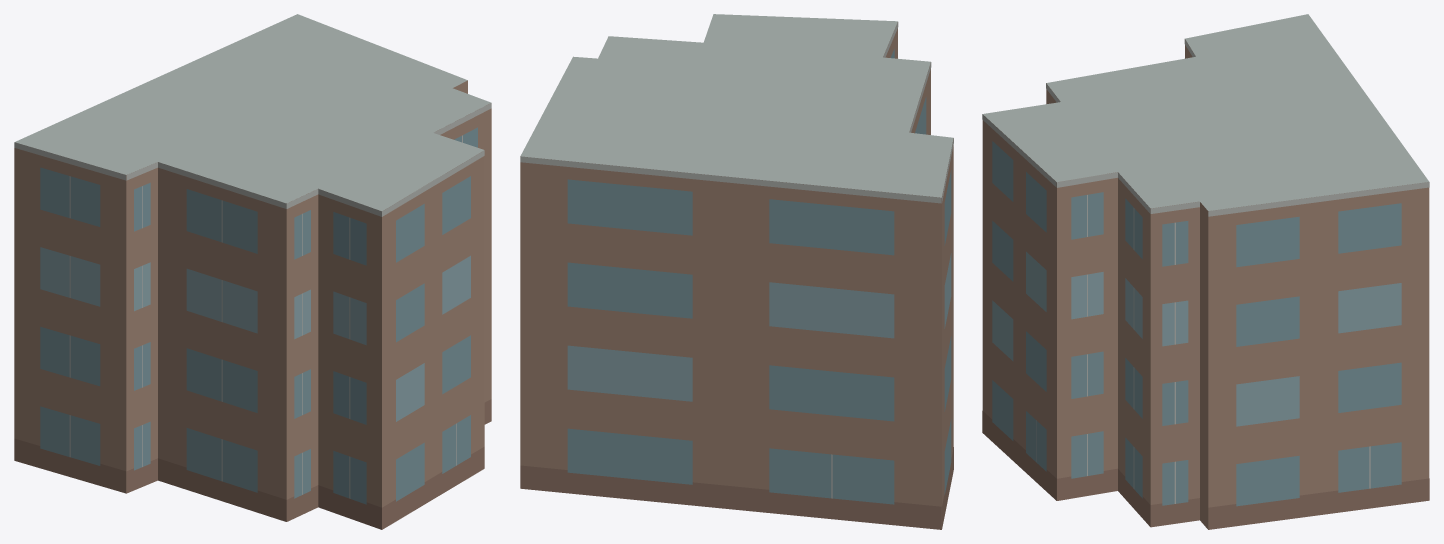
The model's file is survey-upis-32721855.glb.
3 renders of one model, left to right at view 1: azimuth 30°, elevation 25°; view 2: azimuth 150°, elevation 25°; view 3: azimuth 270°, elevation 25°, orthographic. The views are drawn at different scales.
Visible parts, largest first — view 1: survey-upis-32721855.tmp; view 2: survey-upis-32721855.tmp; view 3: survey-upis-32721855.tmp.
Boxes of the visible parts, x1,y1,x2,y2 form: survey-upis-32721855.tmp: [14, 14, 491, 529]; survey-upis-32721855.tmp: [520, 14, 953, 529]; survey-upis-32721855.tmp: [982, 14, 1429, 529].
Bounding box in the file's own units: 18.24 × 13.75 × 17.48.
